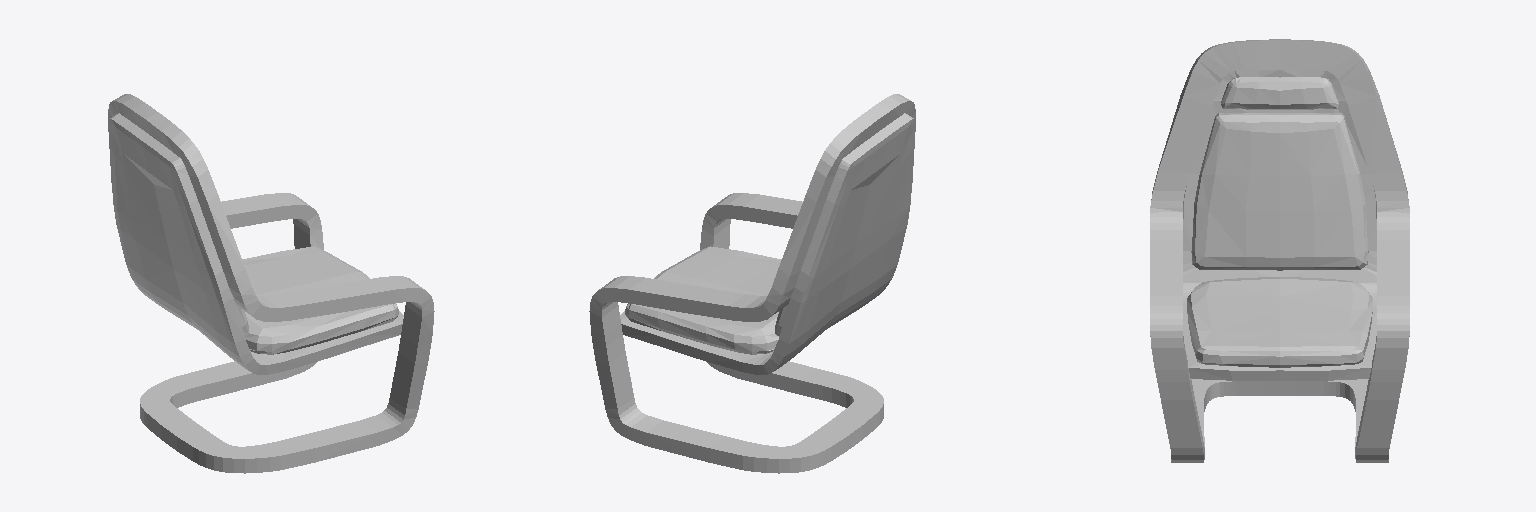
The model's file is Minimal_Default.obj.
3 renders of one model, left to right at view 1: azimuth 30°, elevation 25°; view 2: azimuth 150°, elevation 25°; view 3: azimuth 270°, elevation 25°, orthographic.
Visible parts, largest first — view 1: Chair; view 2: Chair; view 3: Chair.
Part boxes in pixels (x1,y1,x2,y2): Chair: (108,94,434,473); Chair: (589,94,915,473); Chair: (1150,39,1409,462).
Size of the model in its own units: 82.16 by 115 by 80.9.